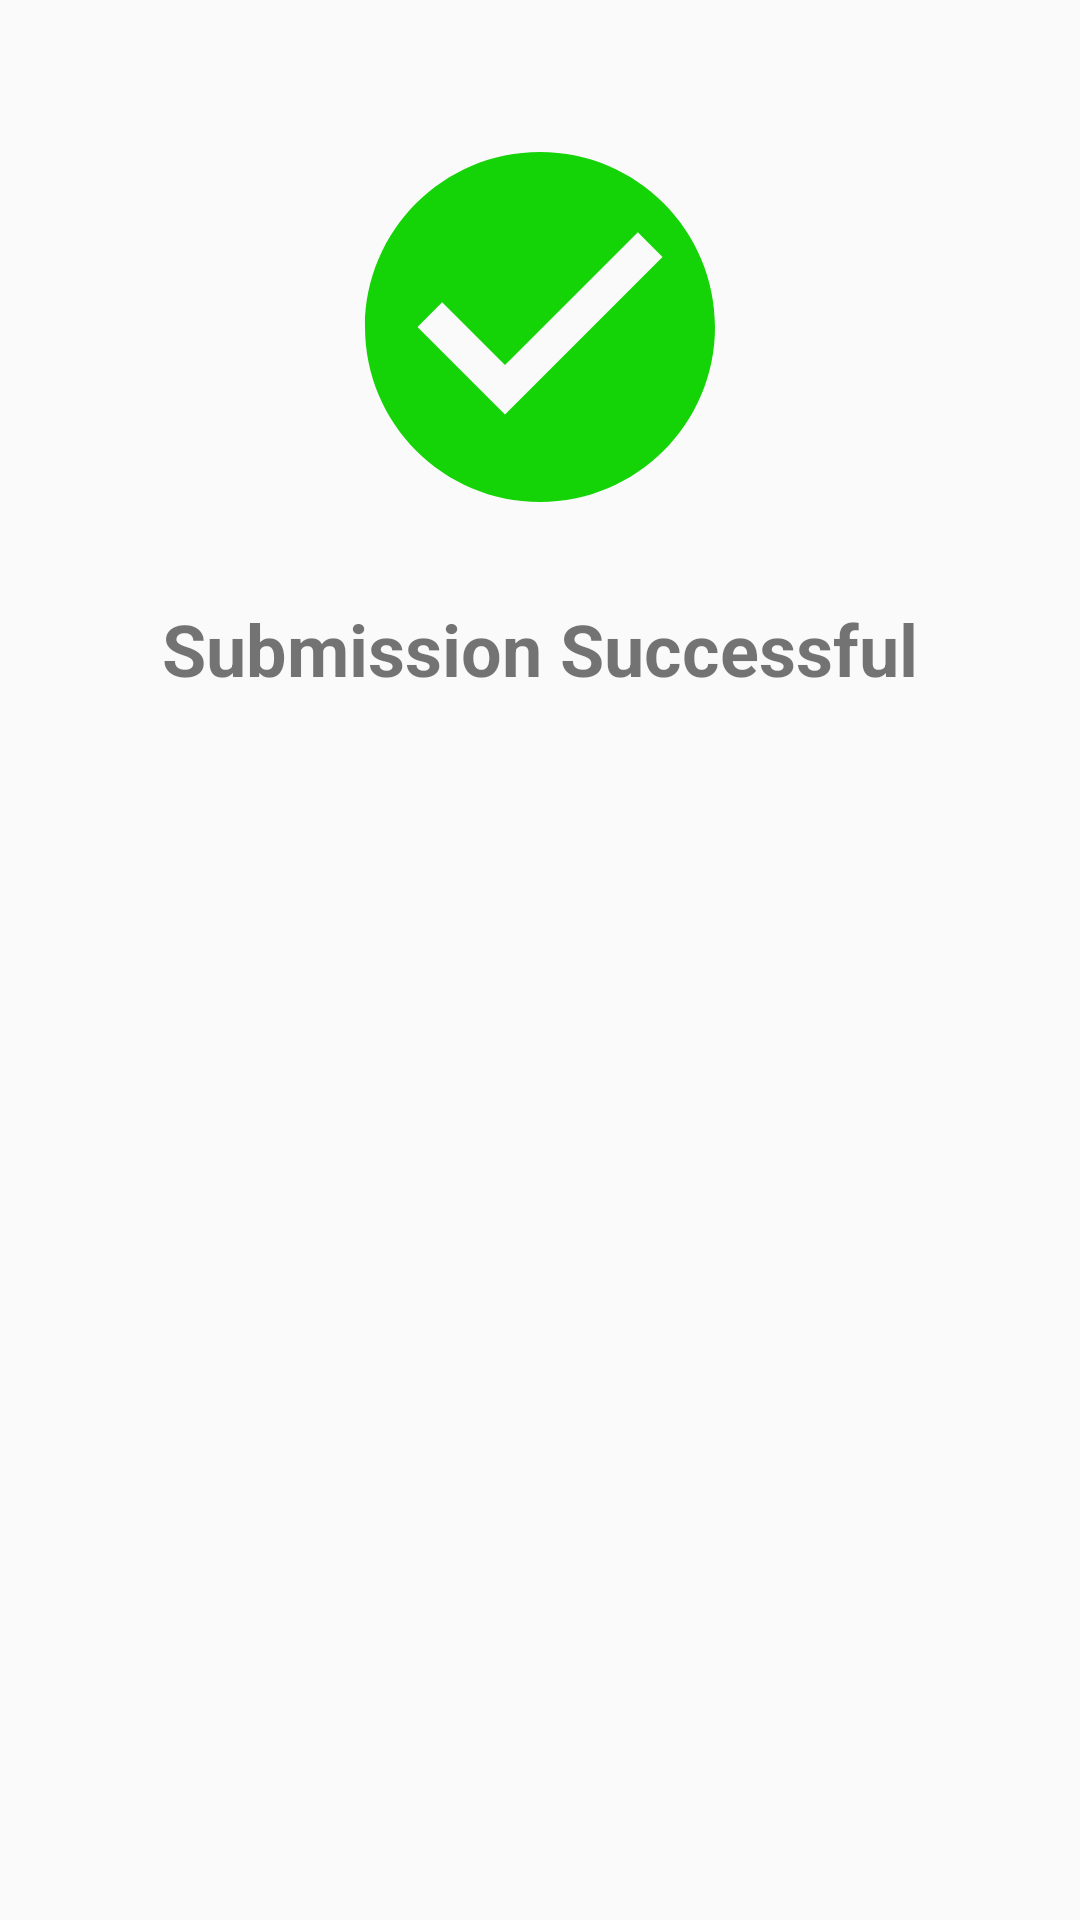

Screen size 1080 x 1920. Icon name, then its center in pixels as (x=x, y=y):
check circle: (x=540, y=327)
